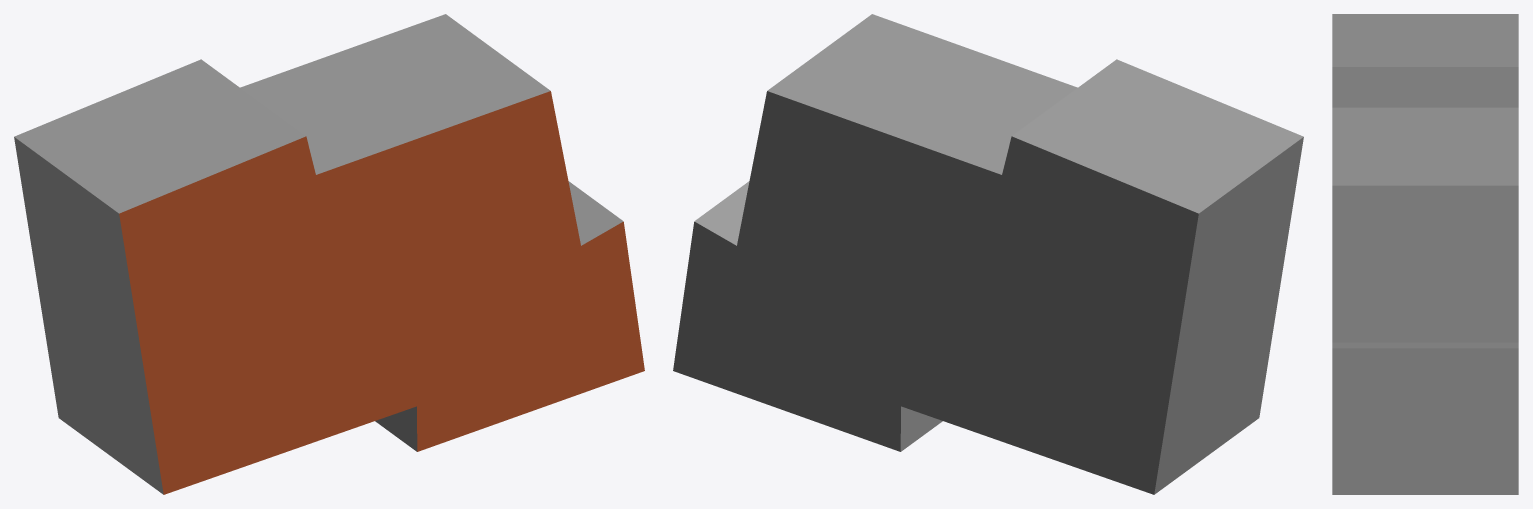
The model's file is construction_1029_assumed_A_Casa_h6m.obj.
3 renders of one model, left to right at view 1: azimuth 30°, elevation 25°; view 2: azimuth 150°, elevation 25°; view 3: azimuth 270°, elevation 25°, orthographic. The views are drawn at different scales.
Parts seen in each view (by area): view 1: construction_1029_assumed_A_Casa; view 2: construction_1029_assumed_A_Casa; view 3: construction_1029_assumed_A_Casa.
Part boxes in pixels (<box>): construction_1029_assumed_A_Casa: <box>14,14,644,494</box>; construction_1029_assumed_A_Casa: <box>673,14,1303,494</box>; construction_1029_assumed_A_Casa: <box>1332,14,1518,494</box>.
Bounding box in the file's own units: 17.33 × 10.8 × 6.
